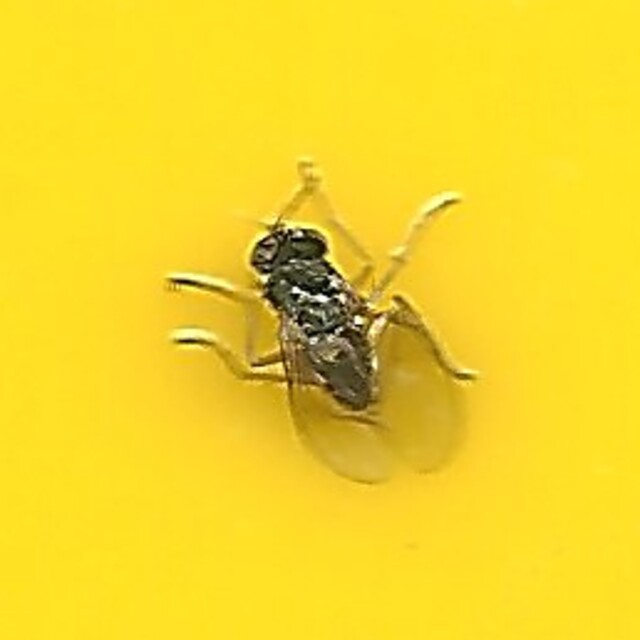Brachycera: (248, 222, 392, 418)
